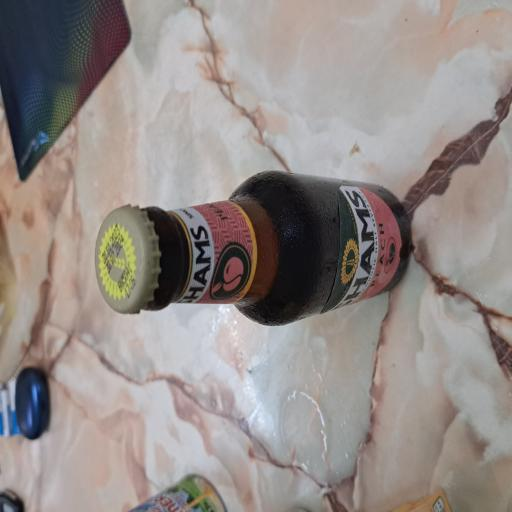glass bottle: (136, 125, 256, 512)
